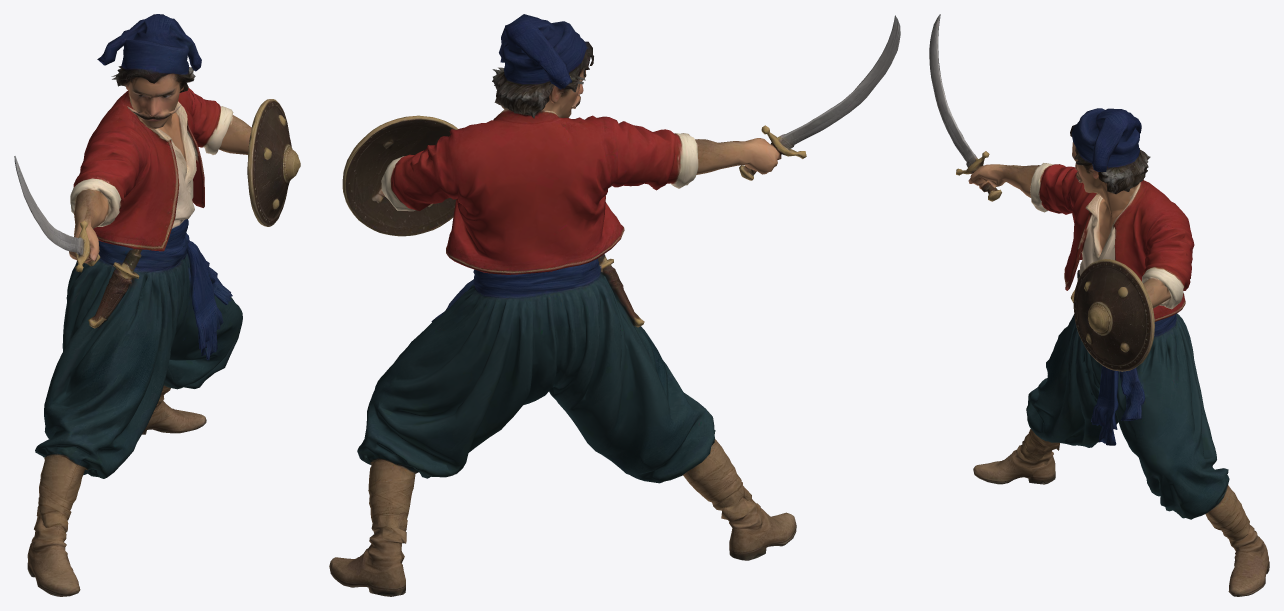
The model's file is levend-kilicli-hucum-1550-1600-tripo-v1.glb.
3 views of the same model, side by side, from view 1: azimuth 30°, elevation 25°; view 2: azimuth 150°, elevation 25°; view 3: azimuth 270°, elevation 25° (orthographic). The views are drawn at different scales.
Parts seen in each view (by area): view 1: tripo_node_ec78b945-39bb-4f6a-8e33-1d03e68e2717; view 2: tripo_node_ec78b945-39bb-4f6a-8e33-1d03e68e2717; view 3: tripo_node_ec78b945-39bb-4f6a-8e33-1d03e68e2717.
Part boxes in pixels (x1,y1,x2,y2): tripo_node_ec78b945-39bb-4f6a-8e33-1d03e68e2717: (14, 14, 300, 596); tripo_node_ec78b945-39bb-4f6a-8e33-1d03e68e2717: (329, 14, 900, 596); tripo_node_ec78b945-39bb-4f6a-8e33-1d03e68e2717: (929, 14, 1269, 596).
Size of the model in its own units: 0.8483 by 1 by 0.7045.
Materials: 1 (1 with a texture image).
